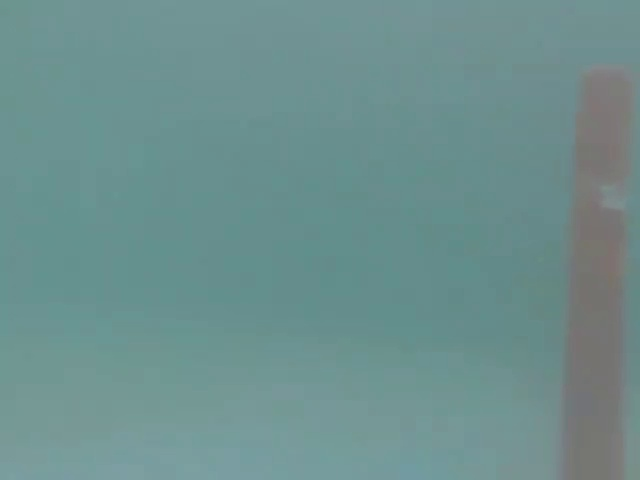flare: (533, 49, 640, 480)
